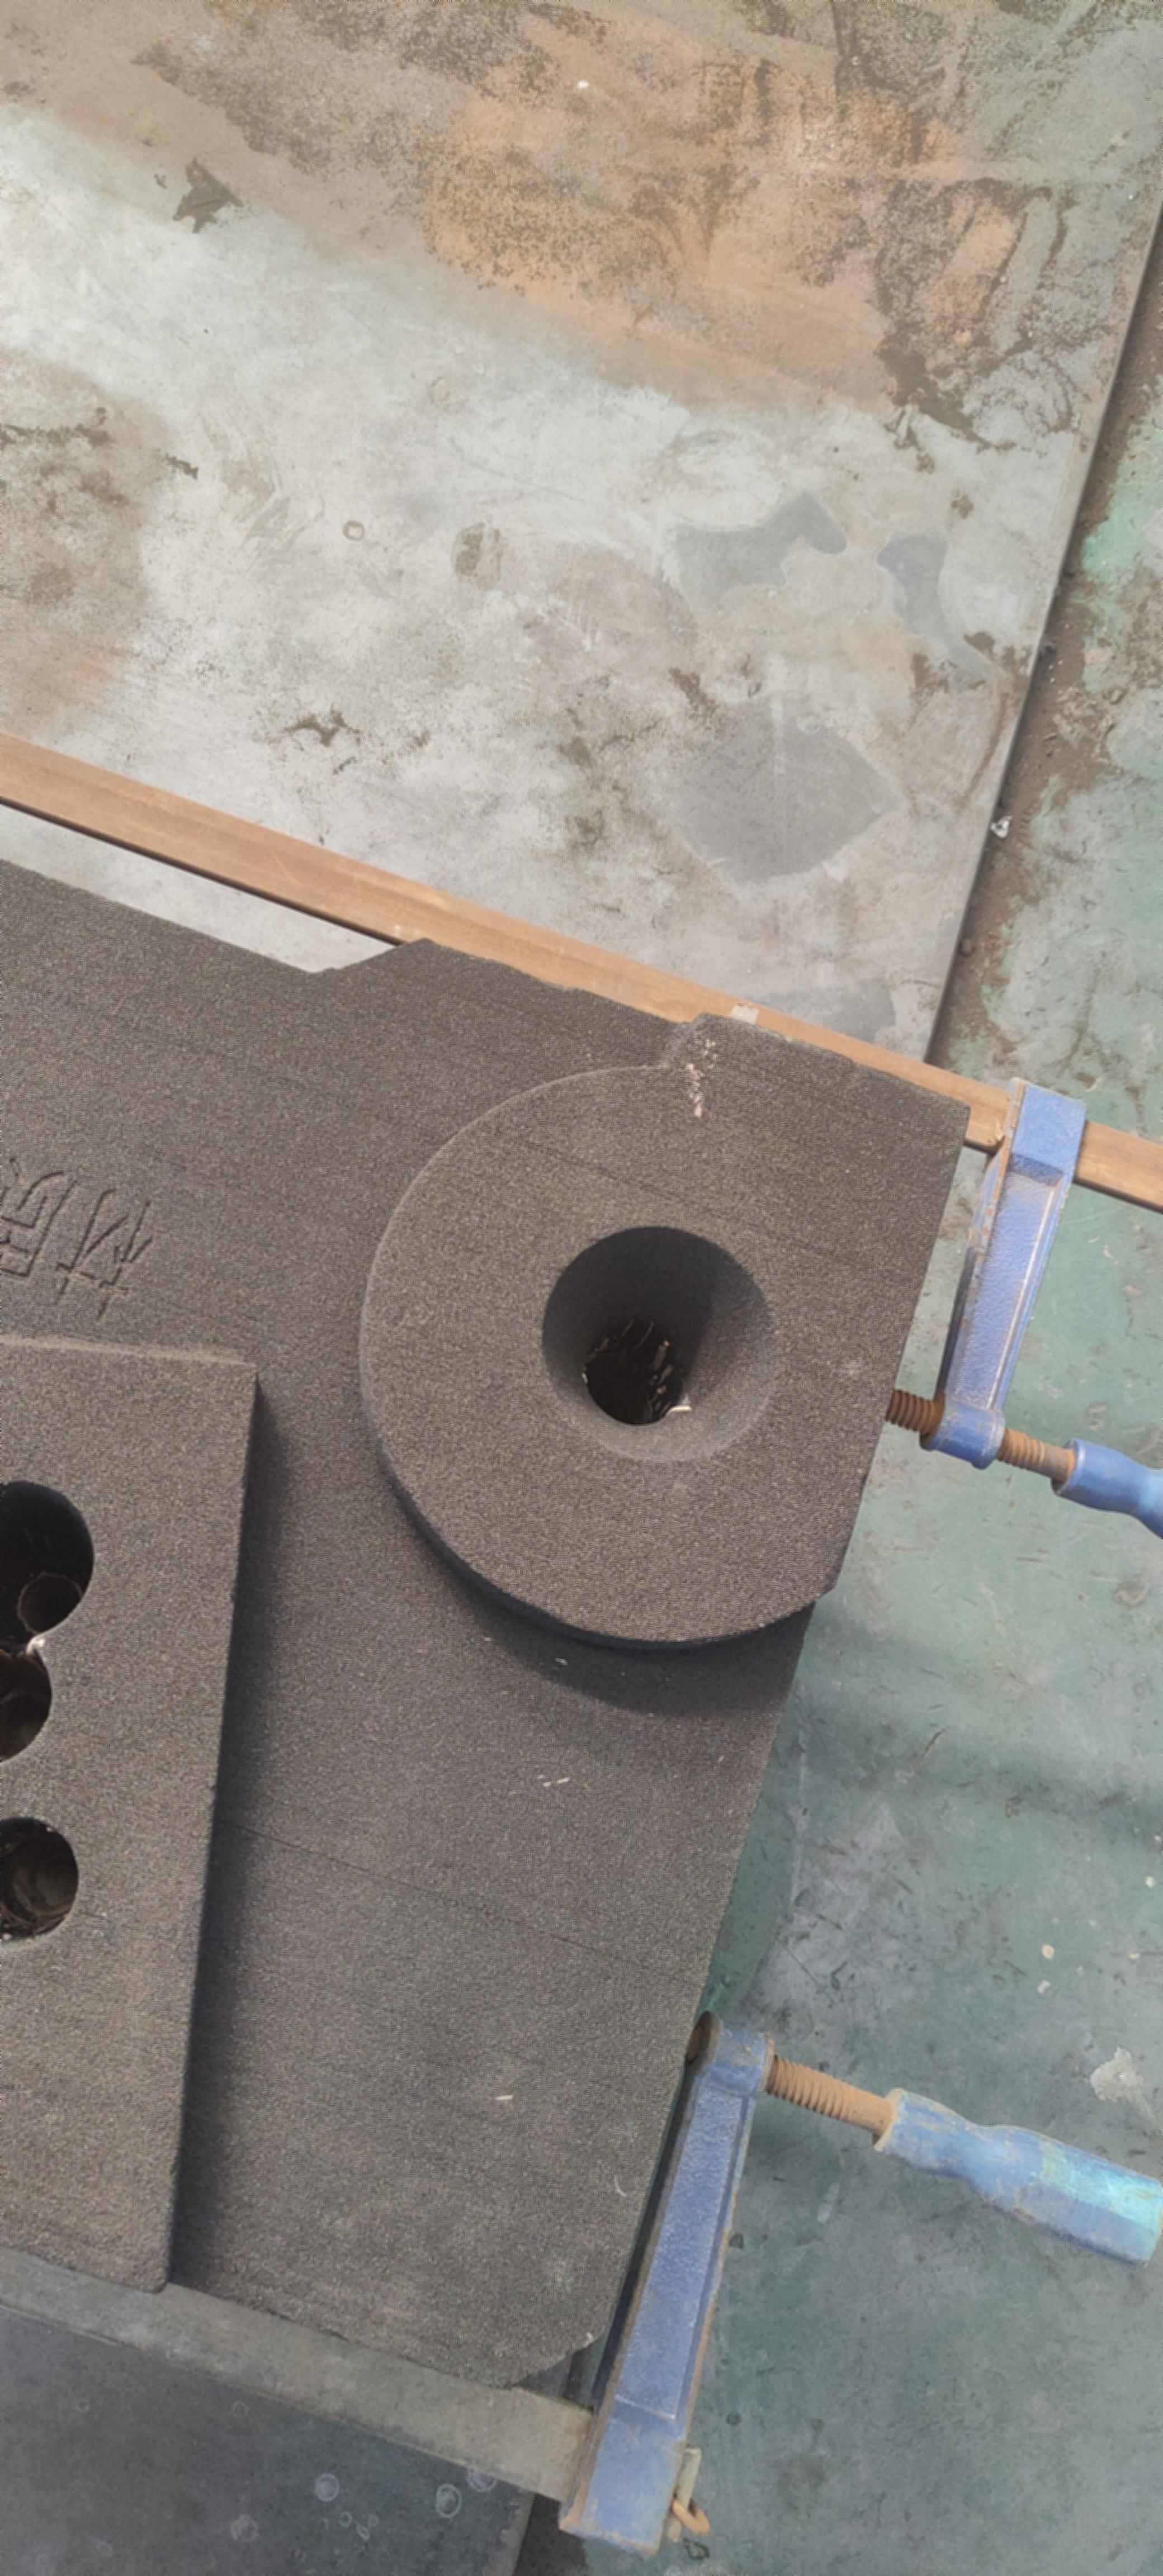pouring hole: (542, 1226, 779, 1465)
